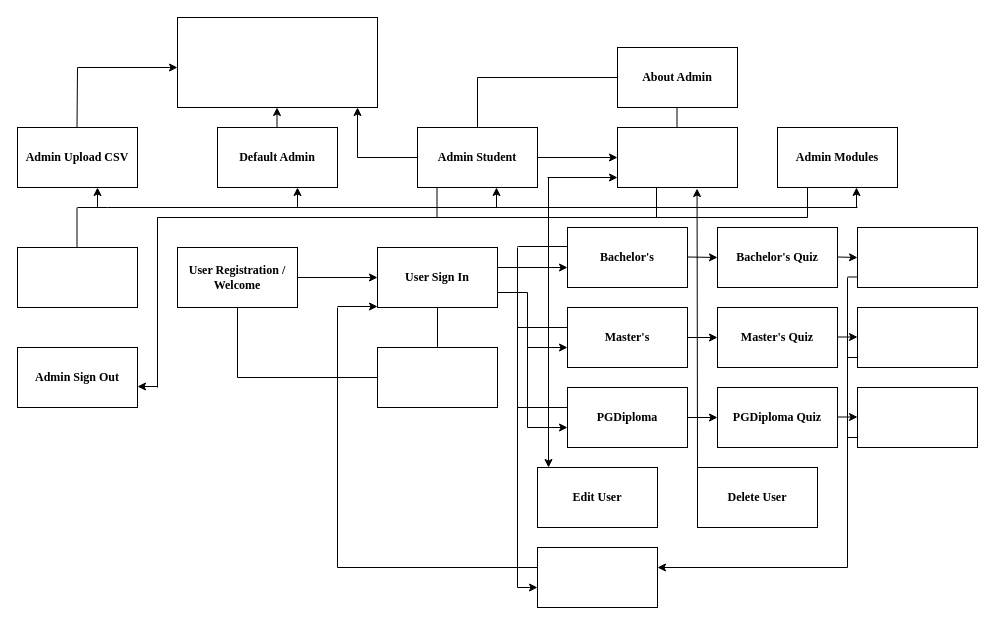
This 995x625 diagram has some shape labels left out. Here are the shapes that lost their labels. From the top down, the centre of each, then its label:
[277,62]: DB SQLITE
[677,157]: Admin Student List
[77,277]: Admin Sign In
[917,257]: Bachelor's Quiz Submission
[917,337]: Master's Quiz Submission
[437,377]: About User
[917,417]: PGDiploma Quiz Submission
[597,577]: Sign Out
